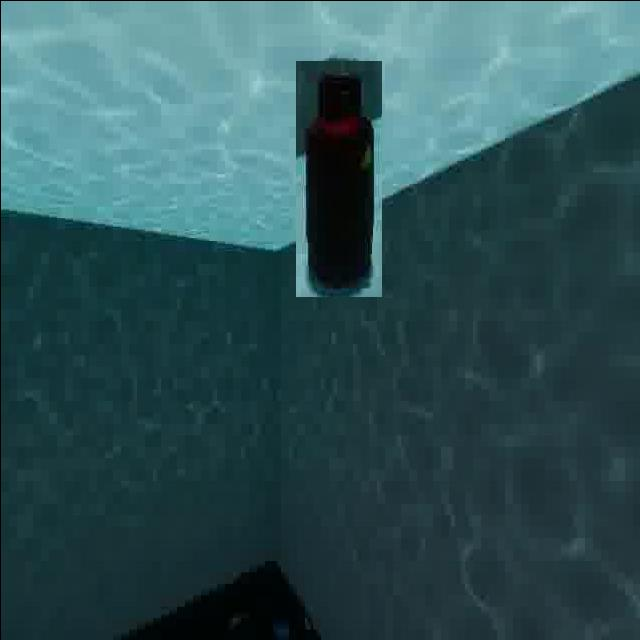Cylinder: (295, 60, 382, 297)
